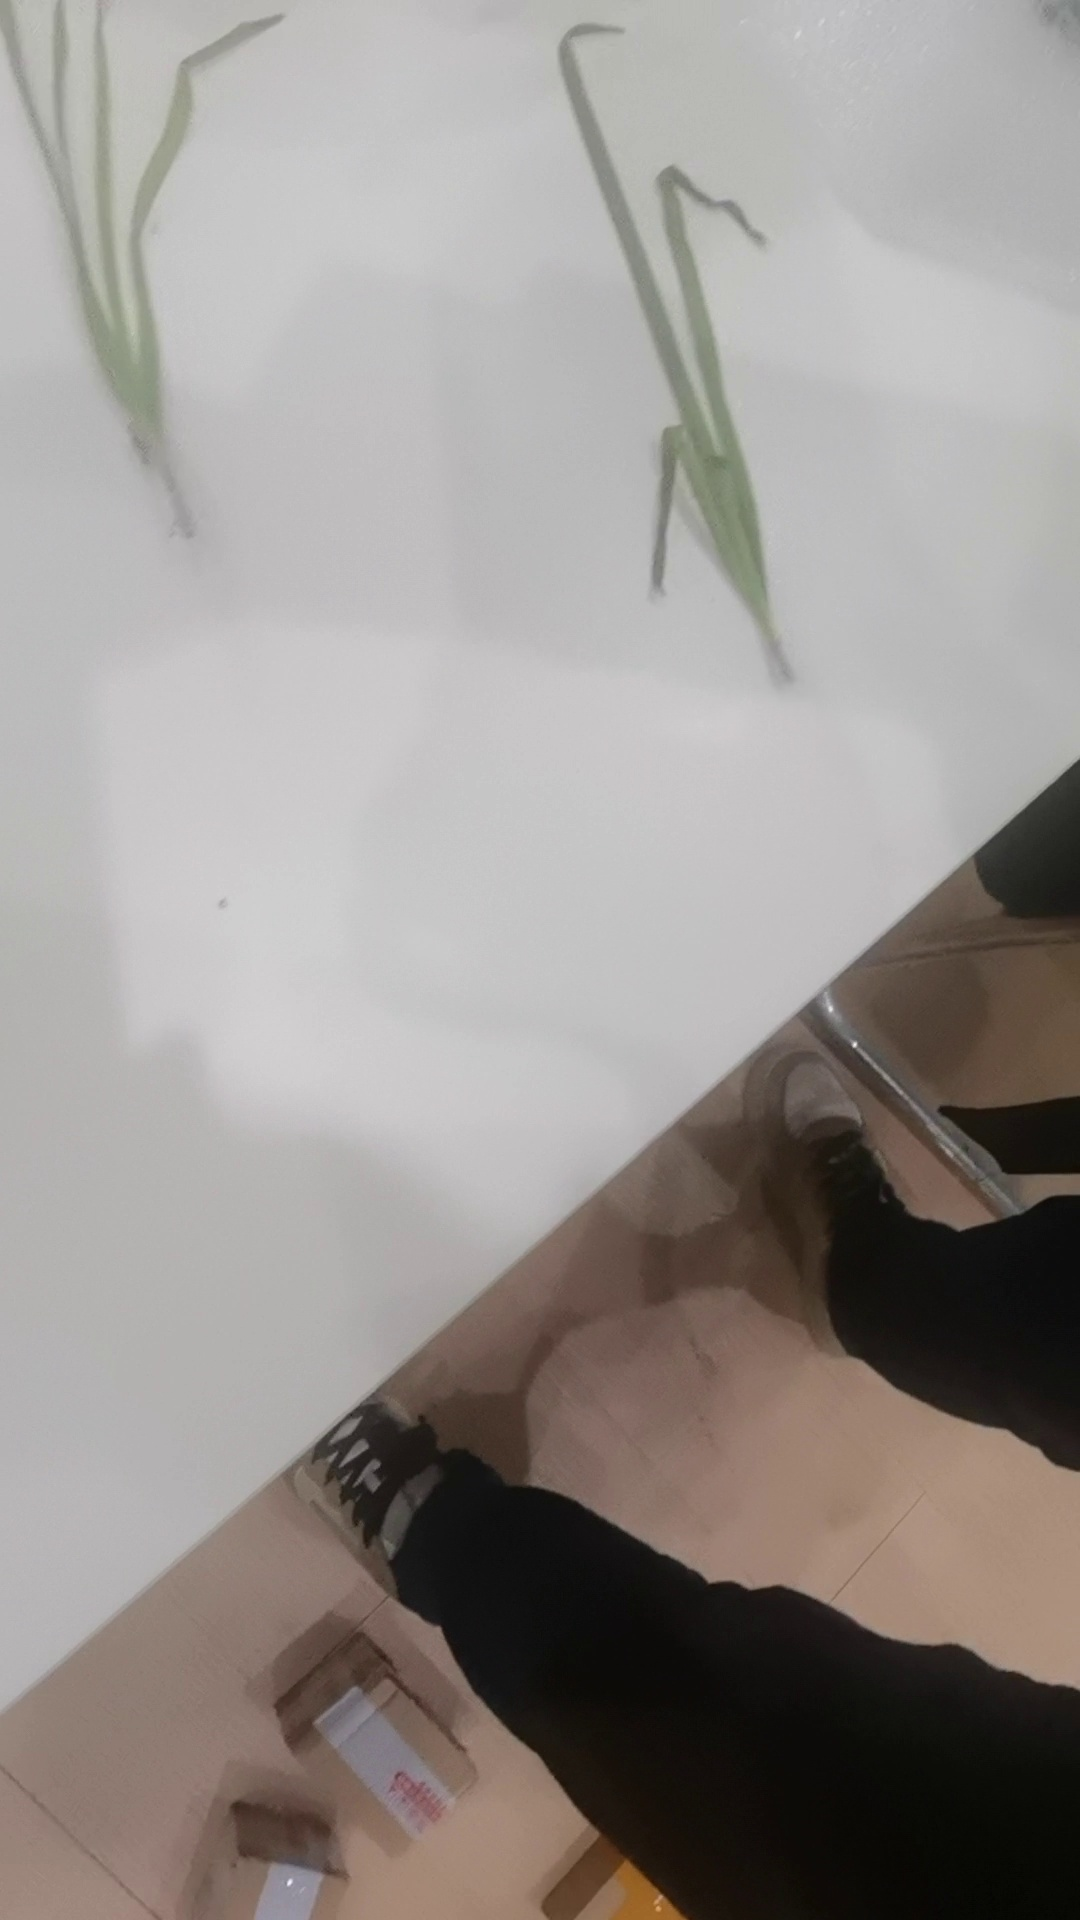chives: (541, 13, 806, 682), (1, 1, 266, 535)
